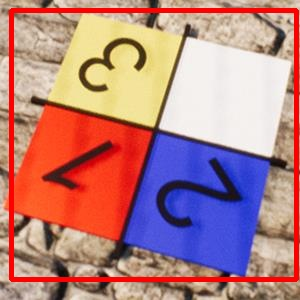nfpa: (11, 10, 296, 279)
